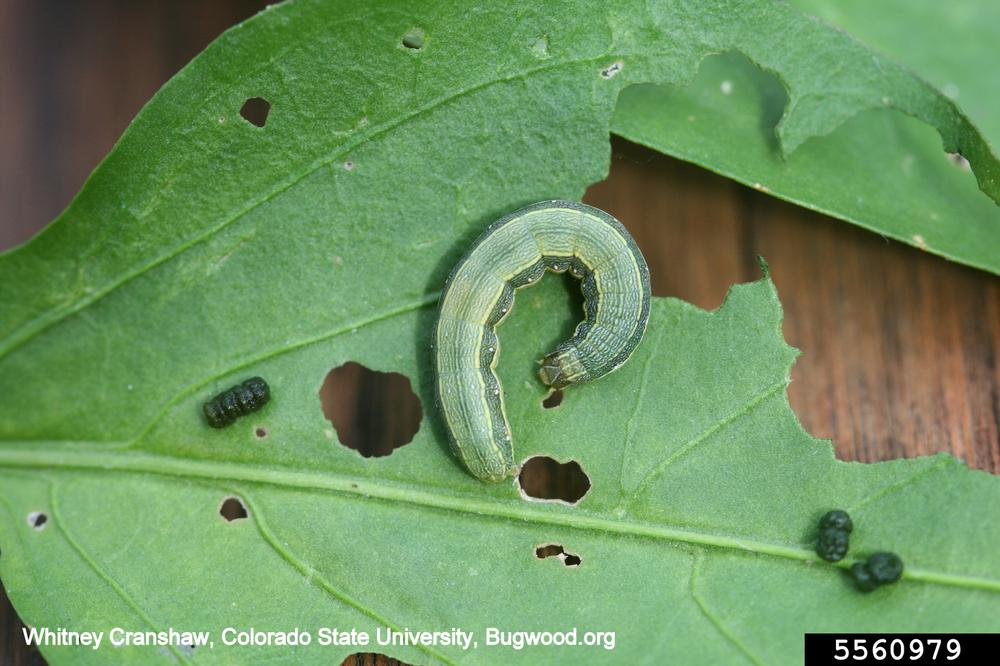Armyworm: (413, 180, 697, 502)
